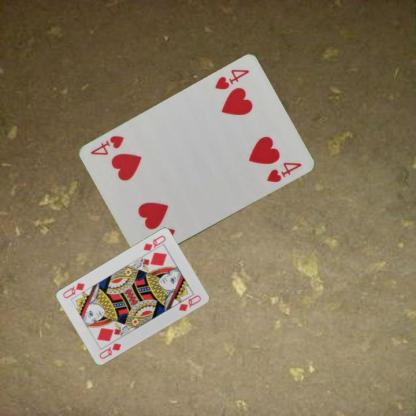4h: (212, 66, 251, 92)
Qd: (140, 233, 167, 257), (96, 341, 122, 360)
